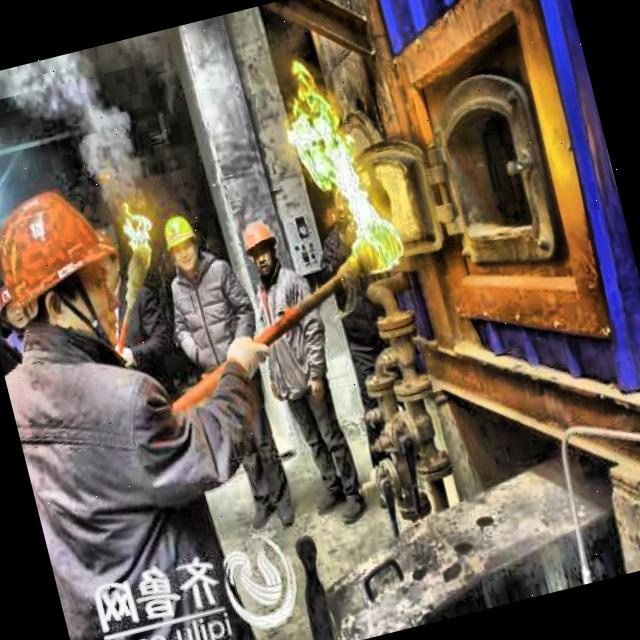helmet: (0, 163, 140, 371), (240, 210, 288, 276), (158, 208, 204, 275), (0, 275, 27, 334)
